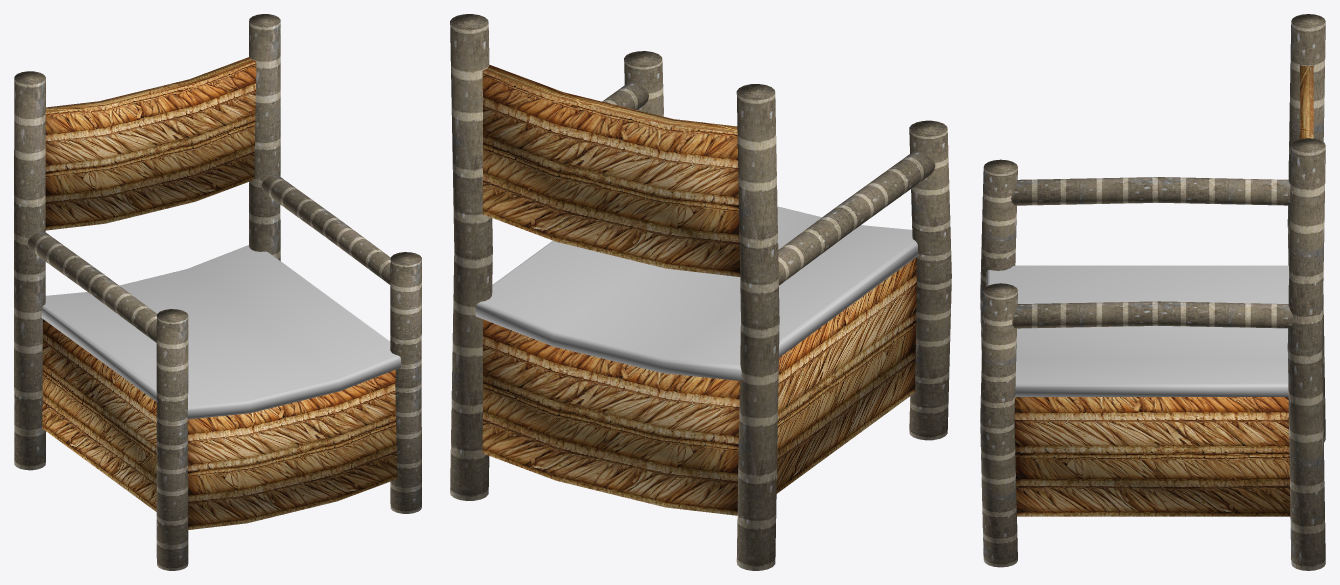
File: chair.fbx
The picture shows the model from 3 angles, left to right: view 1: azimuth 30°, elevation 25°; view 2: azimuth 150°, elevation 25°; view 3: azimuth 270°, elevation 25°; orthographic projection. The views are drawn at different scales.
Visible parts, largest first — view 1: Mesh; view 2: Mesh; view 3: Mesh.
Boxes of the visible parts, bbox=[...] form: Mesh: bbox=[14, 14, 421, 570]; Mesh: bbox=[450, 14, 951, 570]; Mesh: bbox=[980, 14, 1325, 570].
Size of the model in its own units: 96.8 by 135 by 101.
